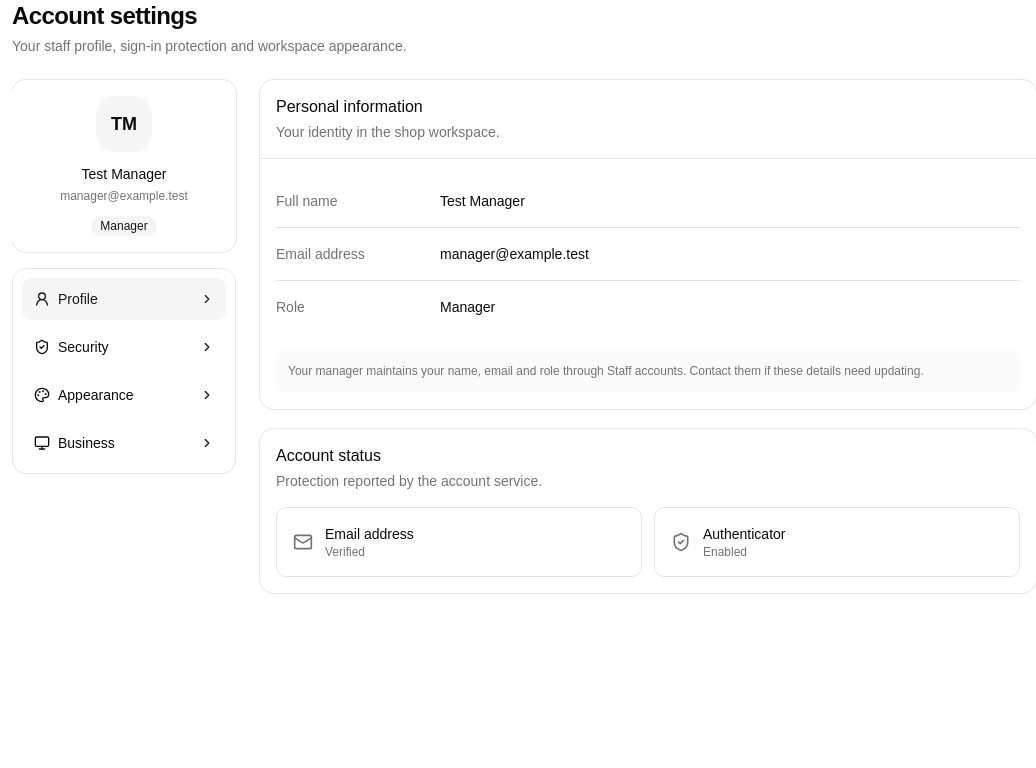
Test: changes a password with session revocation and only reports success after confirmation
Click the button "Security". click: click(124, 347)
box: [21, 325, 227, 369]
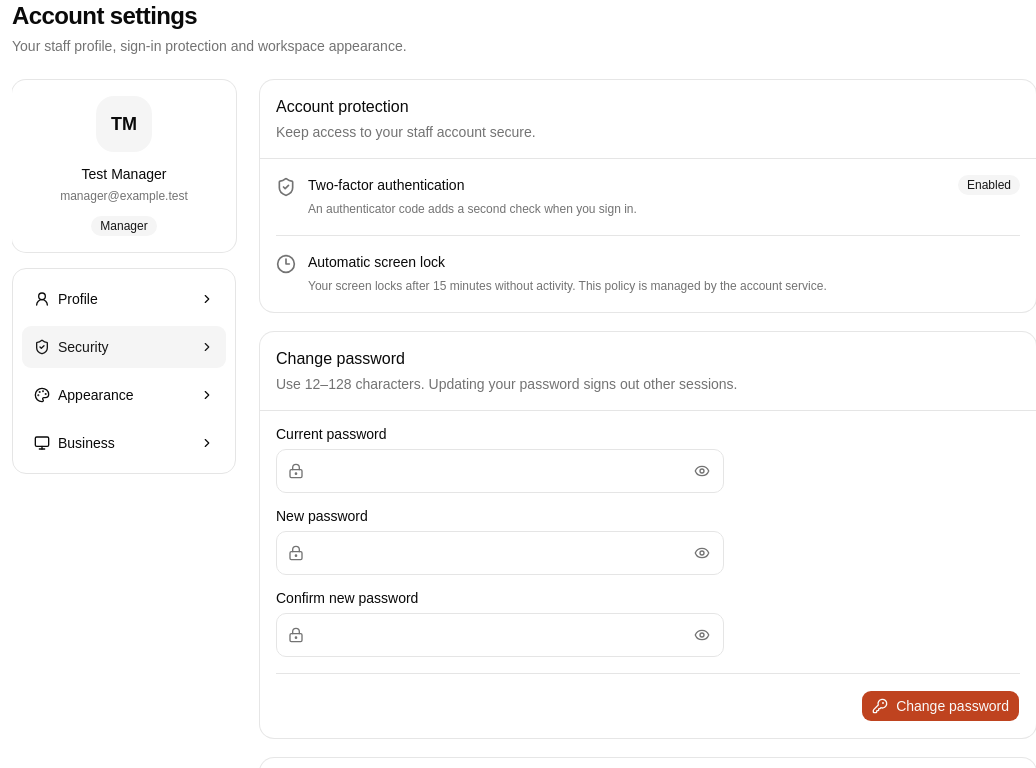
Type "old-test-password" into the password field with id "current-password". click: (500, 471)
box: [276, 449, 724, 493]
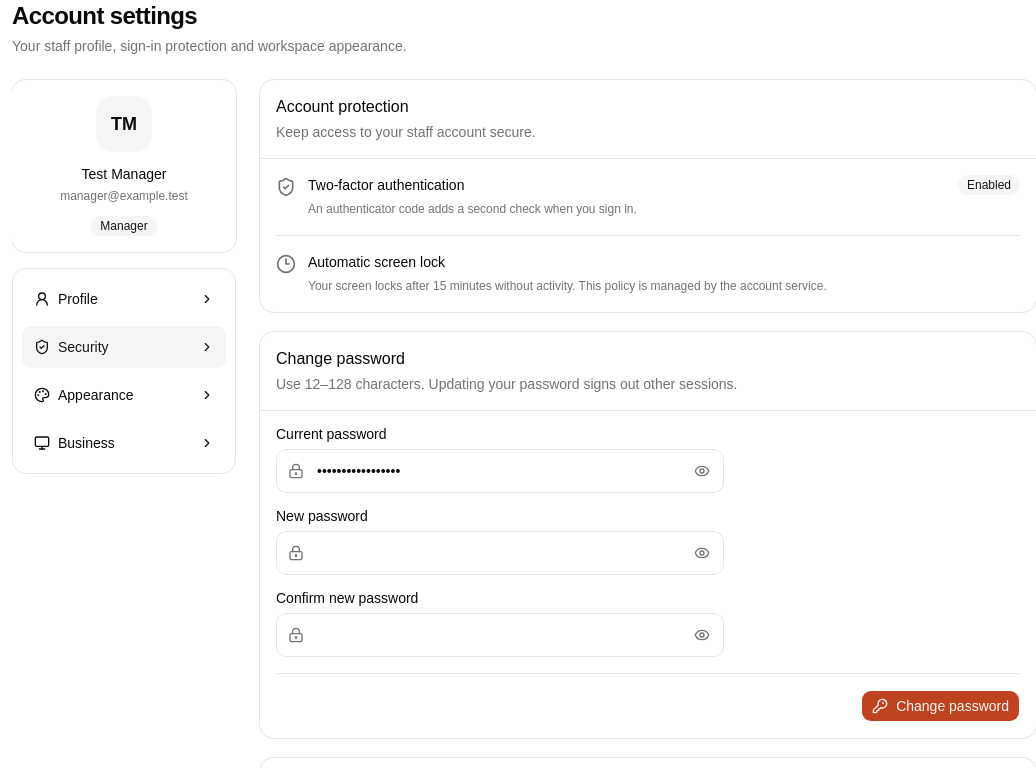
Type "new-test-password" into the password field labelled "New password". click: (500, 553)
box: [276, 531, 724, 575]
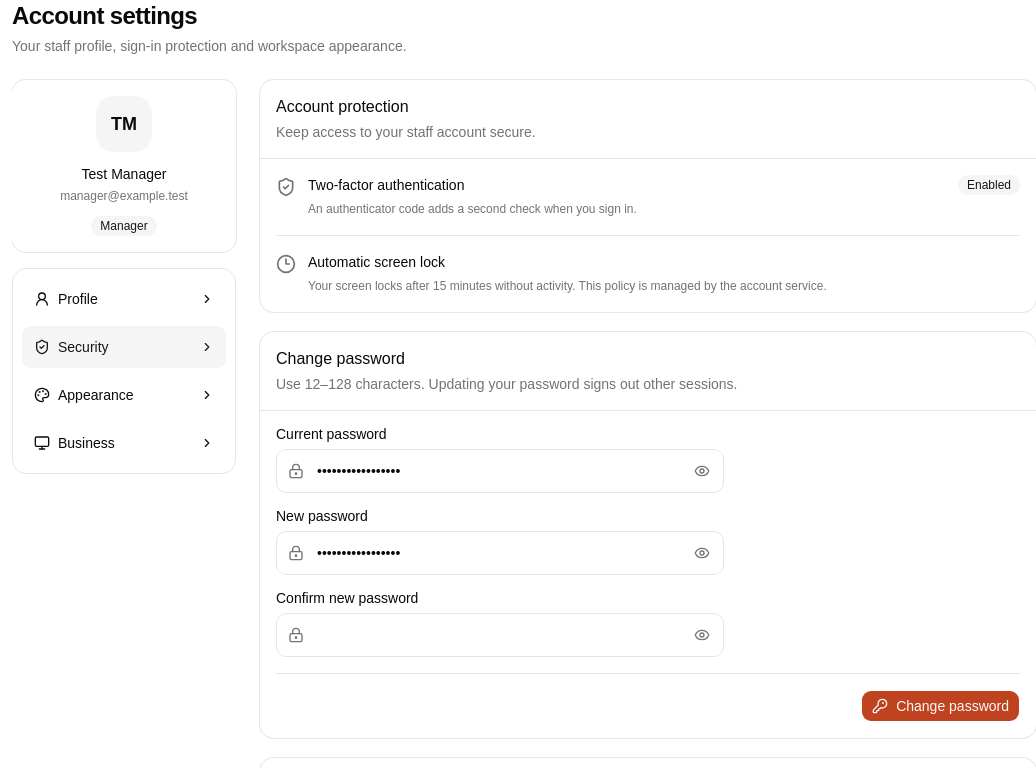
Type "new-test-password" into the password field labelled "Confirm new password". click: (500, 635)
box: [276, 613, 724, 657]
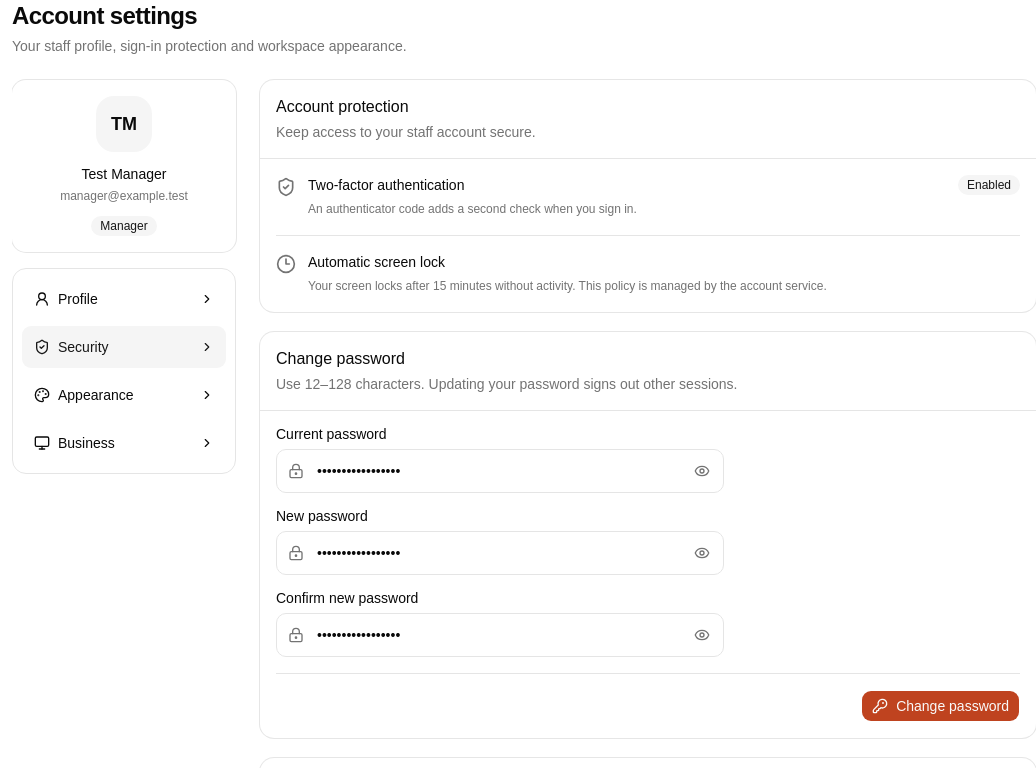
Submit the form "Change password", box [276, 427, 1020, 722]
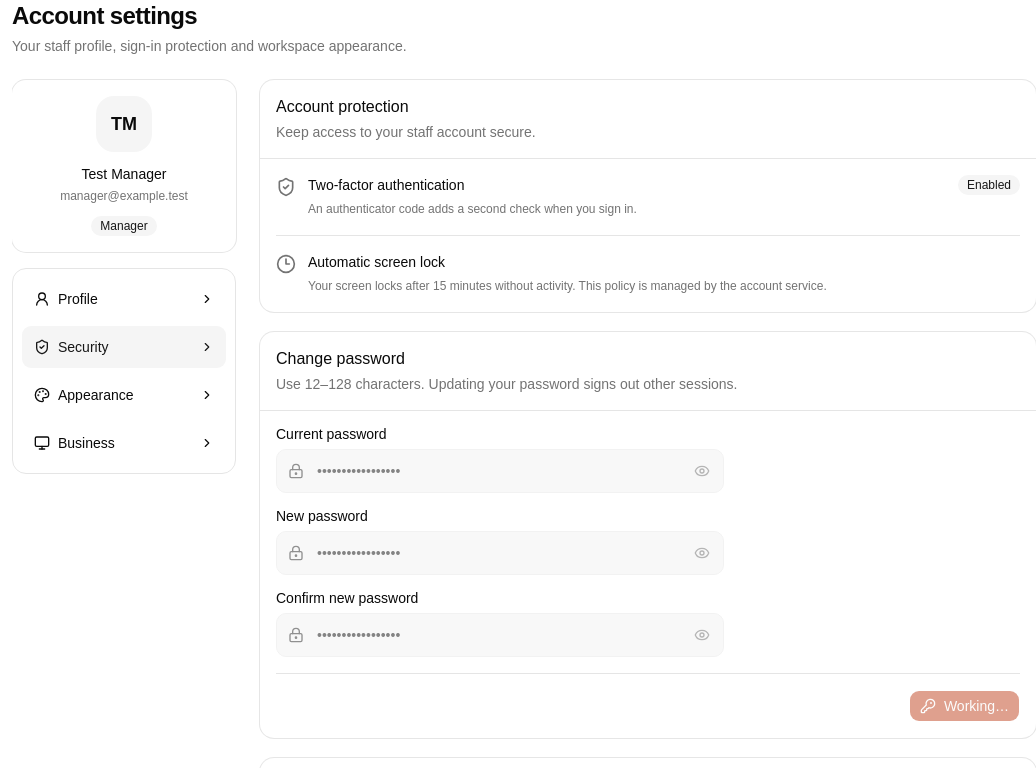
Submit the form named "Change password", box [276, 427, 1020, 722]
(page scrolled)
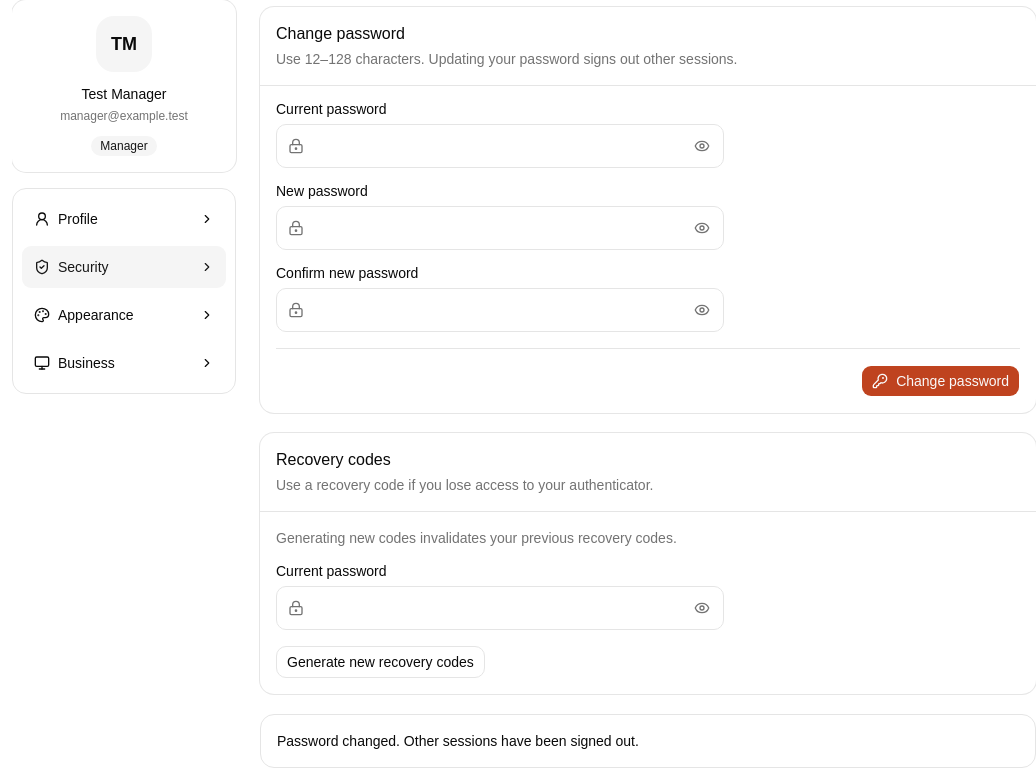
expect the message shows "Password changed": met, box [277, 733, 639, 749]
